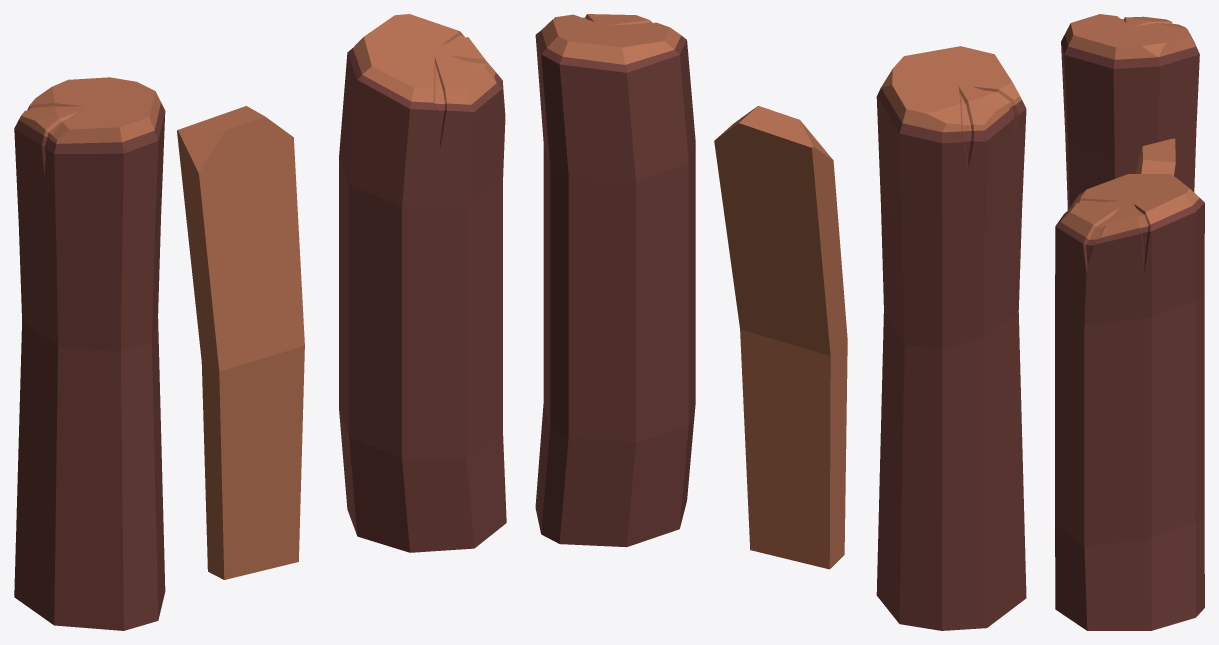
File: Fence Wooden Blunt 14.fbx
3 views of the same model, side by side, from view 1: azimuth 30°, elevation 25°; view 2: azimuth 150°, elevation 25°; view 3: azimuth 270°, elevation 25° (orthographic). The views are drawn at different scales.
Parts seen in each view (by area): view 1: Wooden Pole Blunt 14; view 2: Wooden Pole Blunt 14; view 3: Wooden Pole Blunt 14.
Boxes of the visible parts, x1,y1,x2,y2 form: Wooden Pole Blunt 14: [14, 14, 506, 630]; Wooden Pole Blunt 14: [535, 14, 1026, 630]; Wooden Pole Blunt 14: [1055, 14, 1204, 630].
Size of the model in its own units: 98.79 by 106 by 32.78.
